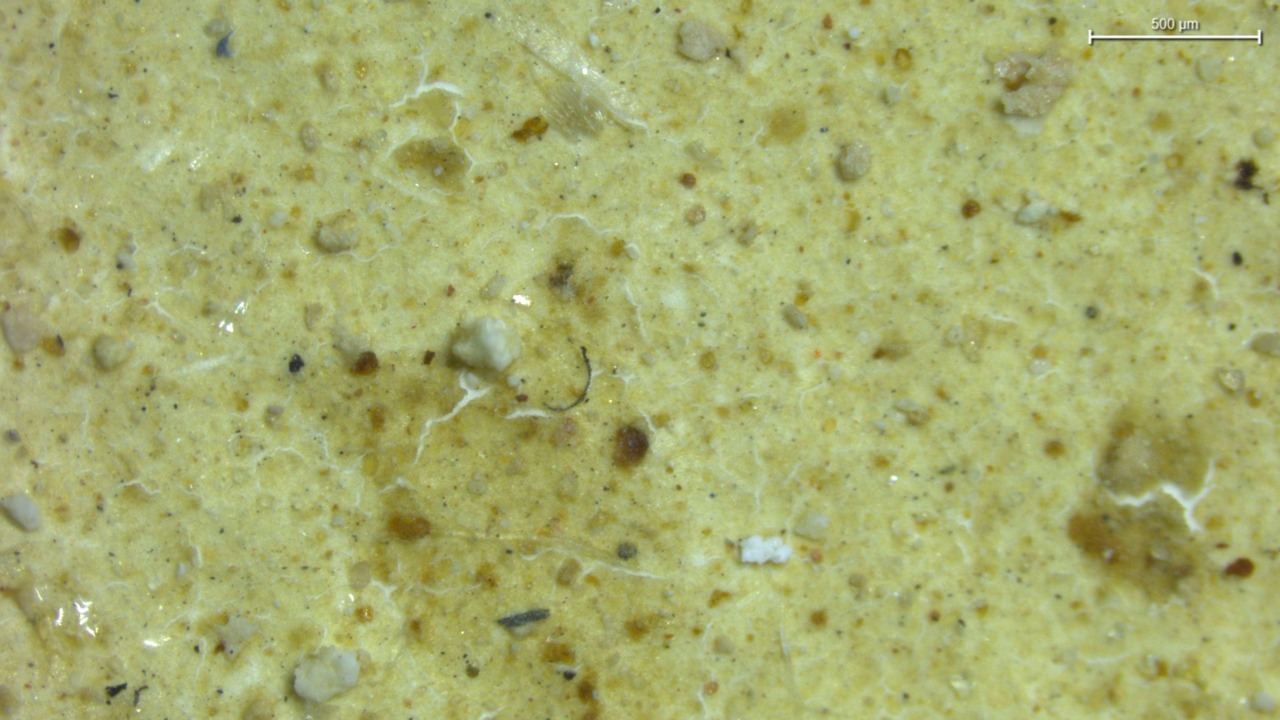microplastic_fragment: (293, 646, 360, 703), (451, 317, 520, 372), (833, 142, 871, 182), (740, 535, 792, 564)
